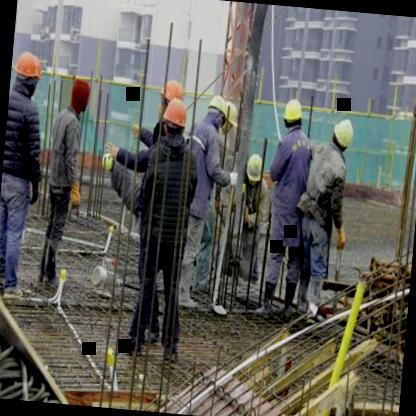helmet: (12, 48, 44, 98), (156, 78, 186, 120), (162, 98, 190, 140), (243, 148, 266, 190), (281, 93, 304, 132), (206, 92, 228, 132), (331, 118, 355, 154), (219, 100, 240, 137), (98, 147, 117, 174)
